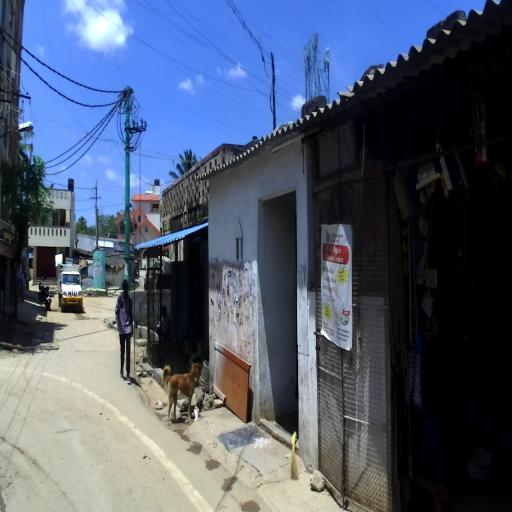street_light_0: (0, 120, 34, 139)
